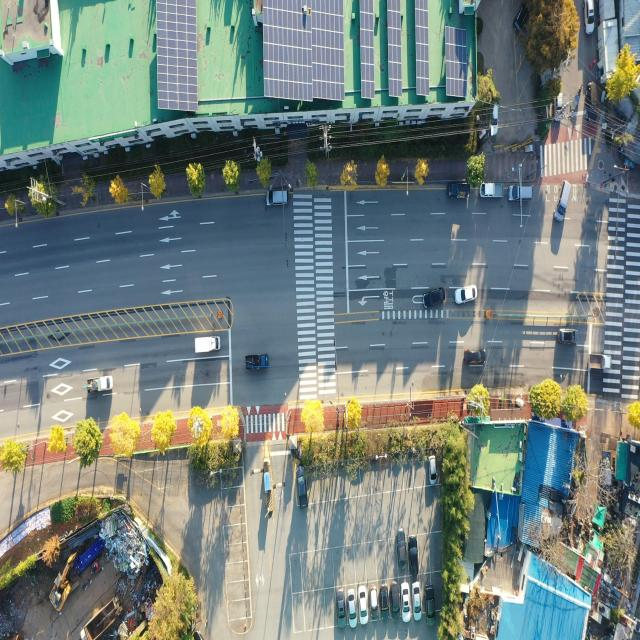car: (555, 182, 571, 223), (507, 185, 532, 204), (582, 0, 595, 36), (423, 289, 445, 308), (297, 464, 307, 504), (268, 189, 290, 206), (463, 349, 485, 366), (456, 286, 476, 304), (411, 535, 420, 574), (490, 101, 500, 135), (397, 533, 406, 569), (381, 584, 390, 619), (358, 586, 366, 624), (426, 584, 434, 622), (513, 5, 524, 32), (414, 583, 422, 620), (338, 590, 346, 626), (559, 331, 578, 346), (348, 589, 356, 624), (391, 582, 398, 620), (368, 587, 376, 620), (401, 584, 408, 618), (558, 95, 566, 123), (429, 454, 436, 485)
medium_truck: (76, 593, 126, 640)
small_truck: (478, 178, 506, 200), (84, 373, 114, 392), (586, 82, 598, 120), (447, 182, 470, 200), (245, 353, 269, 370), (589, 354, 612, 371)
